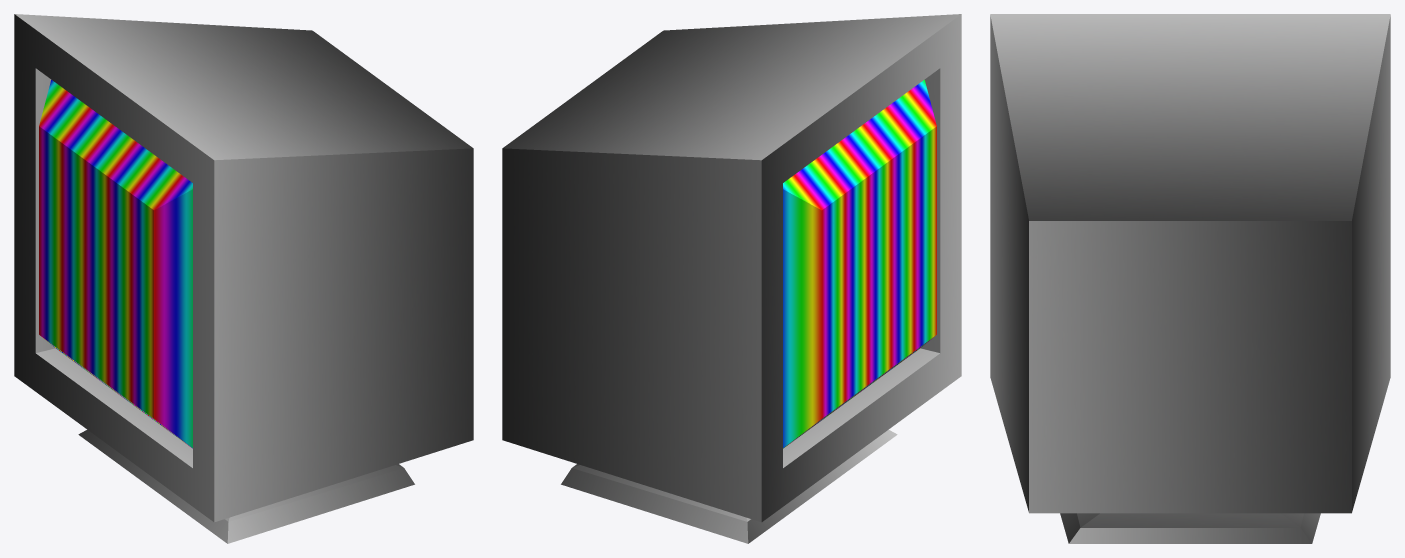
The model's file is monitor.glb.
3 views of the same model, side by side, from view 1: azimuth 30°, elevation 25°; view 2: azimuth 150°, elevation 25°; view 3: azimuth 270°, elevation 25° (orthographic).
Visible parts, largest first — view 1: monitor; view 2: monitor; view 3: monitor.
Part boxes in pixels (left/top/right/bottom): monitor: left=14, top=14, right=473, bottom=543; monitor: left=502, top=14, right=961, bottom=543; monitor: left=990, top=14, right=1390, bottom=543.
Size of the model in its own units: 0.5936 by 0.7871 by 0.6927.
1 material, 1 textured.
